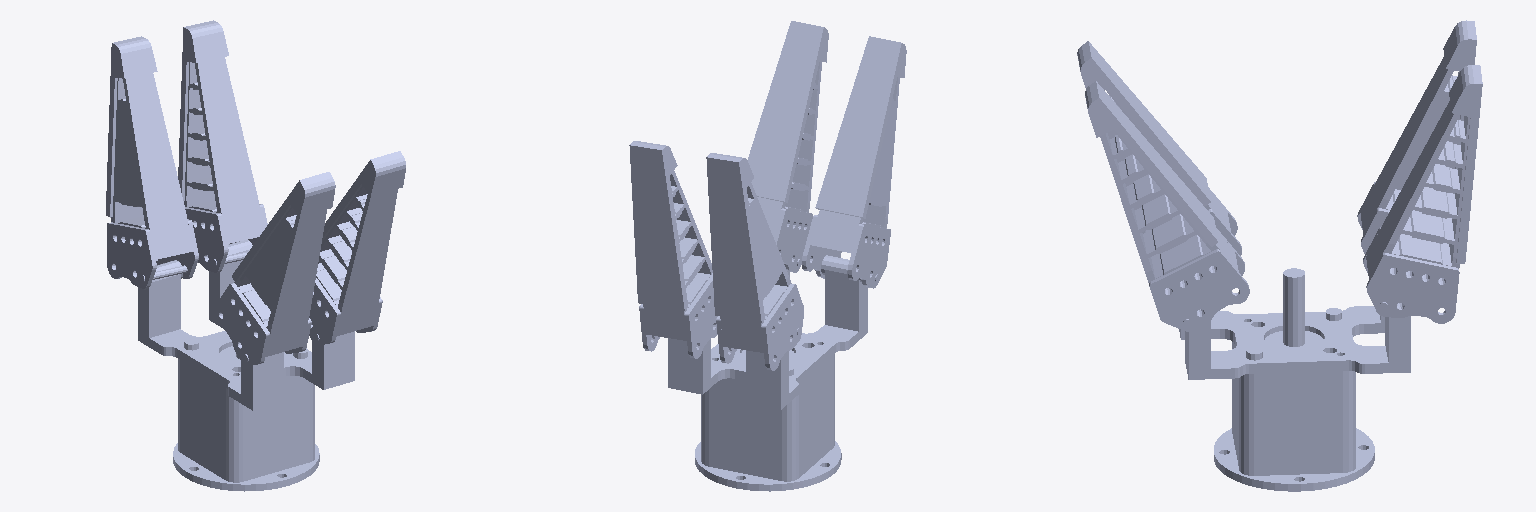
The robot description file, URDF, robot "wheeltec_gripper":
<?xml version="1.0" ?>
<!-- =================================================================================== -->
<!-- |    This document was autogenerated by xacro from urdf/wheeltec_gazebo.xacro     | -->
<!-- |    EDITING THIS FILE BY HAND IS NOT RECOMMENDED                                 | -->
<!-- =================================================================================== -->
<robot name="wheeltec_gripper">
  <link name="wheeltec_gripper_base_link"/>
  <joint name="wheeltec_gripper_base_link_joint" type="fixed">
    <parent link="wheeltec_gripper_base_link"/>
    <child link="wheeltec_gripper_chaise"/>
    <origin rpy="0 -1.5707963267948966 0" xyz="-0.005 0 0.0272"/>
  </joint>
  <link name="wheeltec_gripper_chaise">
    <inertial>
      <origin rpy="0 0 0" xyz="0.0293534223009873 0.0090853921588317 0.0106597454256406"/>
      <mass value="0.102600550272344"/>
      <inertia ixx="5.20788240164367E-05" ixy="6.54090863453443E-09" ixz="4.42197949237897E-10" iyy="3.20696114264544E-05" iyz="-1.34739886846522E-06" izz="4.78657905498745E-05"/>
    </inertial>
    <visual>
      <origin rpy="0 0 0" xyz="0 0 0"/>
      <geometry>
        <mesh filename="package://wheeltec_gripper_description/meshes/gripperbase.STL"/>
      </geometry>
      <material name="">
        <color rgba="0.792156862745098 0.819607843137255 0.933333333333333 1"/>
      </material>
    </visual>
    <collision>
      <origin rpy="0 0 0" xyz="0.0293534223009873 0.0090853921588317 0.0106597454256406"/>
      <geometry>
        <box size="0.05 0.08 0.045"/>
      </geometry>
    </collision>
  </link>
  <gazebo reference="wheeltec_gripper_chaise">
    <material>Gazebo/Yellow</material>
  </gazebo>
  <!-- right_finger finger -->
  <joint name="left_finger_joint" type="revolute">
    <origin rpy="0 0 0" xyz="0.071508 -0.024545 -0.020131"/>
    <parent link="wheeltec_gripper_chaise"/>
    <child link="left_finger"/>
    <axis xyz="2.5729E-05 -0.080001 0.99679"/>
    <limit effort="10" lower="0" upper="0.7298" velocity="1.0"/>
    <dynamics damping="1" friction="1"/>
  </joint>
  <link name="left_finger">
    <inertial>
      <origin rpy="0 0 0" xyz="0.0324201926836488 -0.0145963763975525 0.0293610241174507"/>
      <mass value="0.0454654477917792"/>
      <inertia ixx="8.54538343821676E-06" ixy="9.08652805486317E-06" ixz="7.29792995722946E-07" iyy="2.33471912608672E-05" iyz="-4.42703368456901E-07" izz="2.88247074076199E-05"/>
    </inertial>
    <visual>
      <origin rpy="0 0 0" xyz="0 0 0"/>
      <geometry>
        <mesh filename="package://wheeltec_gripper_description/meshes/fingers.STL"/>
      </geometry>
      <material name="">
        <color rgba="0.792156862745098 0.819607843137255 0.933333333333333 1"/>
      </material>
    </visual>
    <collision>
      <origin rpy="0 0 -0.6" xyz="0.0324201926836488 -0.0145963763975525 0.0293610241174507"/>
      <geometry>
        <box size="0.1 0.02 0.04"/>
      </geometry>
    </collision>
  </link>
  <link name="wheeltec_gripper_center">
    <!--       <visual>
          <origin
        xyz="0 0 0"
        rpy="0 0 0" />
            <geometry>
                <box size="0.03 0.03 0.03"/>
            </geometry>
      </visual> -->
  </link>
  <joint name="wheeltec_gripper_center_joint" type="fixed">
    <origin rpy="0 0 0" xyz="0.125 0 0"/>
    <parent link="wheeltec_gripper_chaise"/>
    <child link="wheeltec_gripper_center"/>
    <axis xyz="0.125 0 0"/>
  </joint>
  <gazebo reference="left_finger">
    <material>Gazebo/Green</material>
  </gazebo>
  <transmission name="trans_'left_finger_joint'">
    <type>transmission_interface/SimpleTransmission</type>
    <joint name="left_finger_joint">
      <hardwareInterface>hardware_interface/PositionJointInterface</hardwareInterface>
    </joint>
    <actuator name="motor_left_finger_joint">
      <mechanicalReduction>1</mechanicalReduction>
      <hardwareInterface>hardware_interface/PositionJointInterface</hardwareInterface>
    </actuator>
  </transmission>
  <!-- left_finger finger -->
  <joint name="right_finger_joint" type="revolute">
    <origin rpy="0 0 0.7298" xyz="0.071485 0.047224 -0.01437"/>
    <parent link="wheeltec_gripper_chaise"/>
    <child link="right_finger"/>
    <axis xyz="-2.5729E-05 0.080001 -0.99679"/>
    <limit effort="10" lower="0" upper="0.7298" velocity="1.0"/>
    <mimic joint="left_finger_joint" multiplier="1" offset="0"/>
    <dynamics damping="1" friction="1"/>
  </joint>
  <link name="right_finger">
    <inertial>
      <origin rpy="0 0 0" xyz="0.0338378772194818 0.00534175148012631 0.0260745753522557"/>
      <mass value="0.0454654472444149"/>
      <inertia ixx="6.25574496069598E-06" ixy="-6.61546951322458E-06" ixz="-5.30362302163462E-07" iyy="2.5622104774585E-05" iyz="-2.59716886842376E-07" izz="2.88394198458503E-05"/>
    </inertial>
    <visual>
      <origin rpy="0 0 0" xyz="0 0 0"/>
      <geometry>
        <mesh filename="package://wheeltec_gripper_description/meshes/fingers.STL"/>
      </geometry>
      <material name="">
        <color rgba="0.792156862745098 0.819607843137255 0.933333333333333 1"/>
      </material>
    </visual>
    <collision>
      <origin rpy="0 0 -0.3" xyz="0.0338378772194818 -0.02034175148012631 0.020745753522557"/>
      <geometry>
        <box size="0.1 0.02 0.04"/>
      </geometry>
    </collision>
  </link>
  <gazebo reference="right_finger">
    <material>Gazebo/Red</material>
  </gazebo>


   <ros2_control name="GazeboSystem" type="system">
  <hardware>
    <plugin>gazebo_ros2_control/GazeboSystem</plugin>
  </hardware>
  <joint name="right_finger_joint">
        <param name="mimic">left_finger_joint</param>
        <param name="multiplier">1</param>
        <command_interface name="position"/>
        <state_interface name="position"/>
        <state_interface name="velocity"/>
        <state_interface name="effort"/>
    </joint>
</ros2_control>
</robot>

--- Facts derived from the render (not from the file) ---
Views: 3 orthographic renders of the robot side by side, from view 1: azimuth 30°, elevation 25°; view 2: azimuth 150°, elevation 25°; view 3: azimuth 270°, elevation 25°.
Robot: wheeltec_gripper — 5 links, 4 joints (2 revolute, 2 fixed); root link wheeltec_gripper_base_link; default pose: all joints at 0.
Links seen in each view (by area): view 1: right_finger, wheeltec_gripper_chaise, left_finger; view 2: right_finger, left_finger, wheeltec_gripper_chaise; view 3: wheeltec_gripper_chaise, right_finger, left_finger.
Link boxes in pixels (bbox=[...]): right_finger: bbox=[106, 20, 267, 288]; wheeltec_gripper_chaise: bbox=[138, 240, 354, 491]; left_finger: bbox=[214, 151, 405, 365]; right_finger: bbox=[629, 141, 803, 370]; left_finger: bbox=[748, 21, 906, 288]; wheeltec_gripper_chaise: bbox=[668, 255, 867, 491]; wheeltec_gripper_chaise: bbox=[1179, 268, 1410, 491]; right_finger: bbox=[1357, 20, 1482, 323]; left_finger: bbox=[1077, 41, 1249, 331].
Size in the robot's own frame: 0.0645 by 0.1455 by 0.1618 metres.
3 mesh visuals loaded from 2 distinct referenced files (2 binary STL).